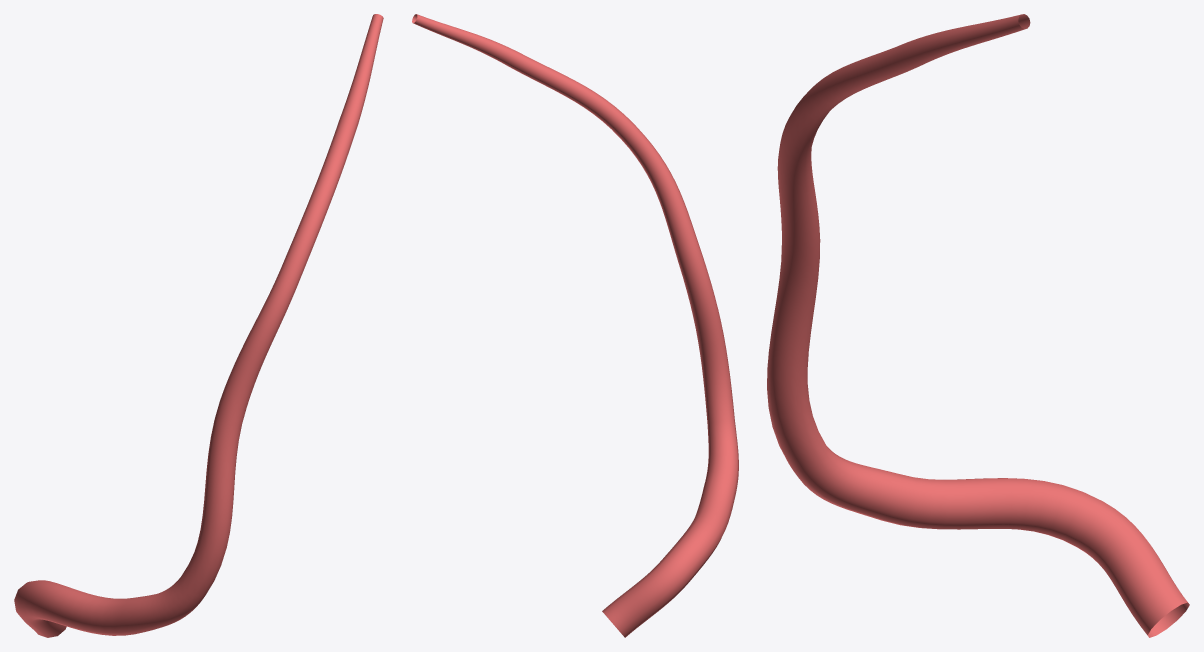
The model's file is Frontal_branches_callosomarginal_artery_left.glb.
3 views of the same model, side by side, from view 1: azimuth 30°, elevation 25°; view 2: azimuth 150°, elevation 25°; view 3: azimuth 270°, elevation 25° (orthographic). The views are drawn at different scales.
Visible parts, largest first — view 1: Frontal_branches_of_callosomarginal_artery.l_BezierCurve.212; view 2: Frontal_branches_of_callosomarginal_artery.l_BezierCurve.212; view 3: Frontal_branches_of_callosomarginal_artery.l_BezierCurve.212.
Part boxes in pixels (x1=…): Frontal_branches_of_callosomarginal_artery.l_BezierCurve.212: x1=14, y1=14, x2=383, y2=637; Frontal_branches_of_callosomarginal_artery.l_BezierCurve.212: x1=412, y1=14, x2=738, y2=637; Frontal_branches_of_callosomarginal_artery.l_BezierCurve.212: x1=767, y1=14, x2=1189, y2=637.
Size of the model in its own units: 0.0139 by 0.0231 by 0.0109.
